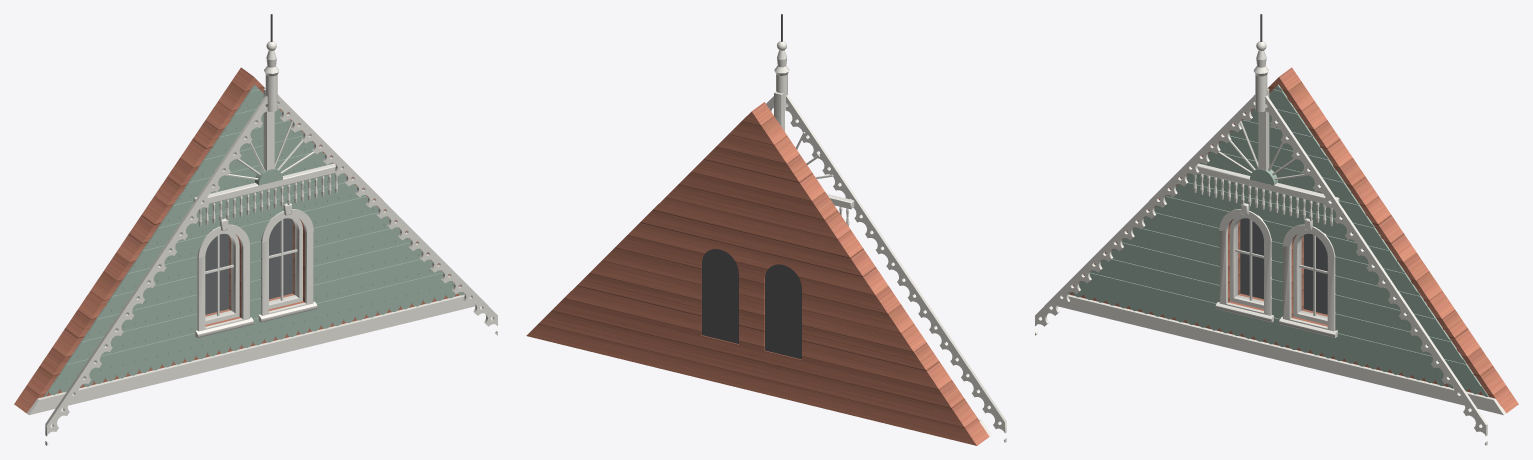
The model's file is gable_front_e.glb.
3 views of the same model, side by side, from view 1: azimuth 30°, elevation 25°; view 2: azimuth 150°, elevation 25°; view 3: azimuth 330°, elevation 25° (orthographic).
Parts seen in each view (by area): view 1: gable_front_e_acc_e, gable_front_e_trim, gable_front_e_siding_e, gable_front_e_glass, gable_front_e_dark, gable_front_e_frame; view 2: gable_front_e_siding_e, gable_front_e_dark, gable_front_e_trim; view 3: gable_front_e_acc_e, gable_front_e_trim, gable_front_e_siding_e, gable_front_e_glass, gable_front_e_dark, gable_front_e_frame.
Part boxes in pixels (x1,y1,x2,y2): gable_front_e_acc_e: [44, 84, 464, 396]; gable_front_e_trim: [27, 41, 497, 445]; gable_front_e_siding_e: [14, 67, 463, 413]; gable_front_e_glass: [206, 219, 296, 317]; gable_front_e_dark: [205, 218, 292, 314]; gable_front_e_frame: [205, 217, 302, 324]; gable_front_e_siding_e: [526, 102, 989, 445]; gable_front_e_dark: [701, 249, 801, 359]; gable_front_e_trim: [766, 41, 1006, 442]; gable_front_e_acc_e: [1068, 84, 1488, 396]; gable_front_e_trim: [1035, 41, 1505, 445]; gable_front_e_siding_e: [1069, 67, 1518, 413]; gable_front_e_glass: [1236, 219, 1326, 317]; gable_front_e_dark: [1240, 218, 1327, 314]; gable_front_e_frame: [1230, 217, 1327, 324].
Bounding box in the file's own units: 6 × 4.75 × 0.7856.
Materials: 7 (1 with a texture image).
